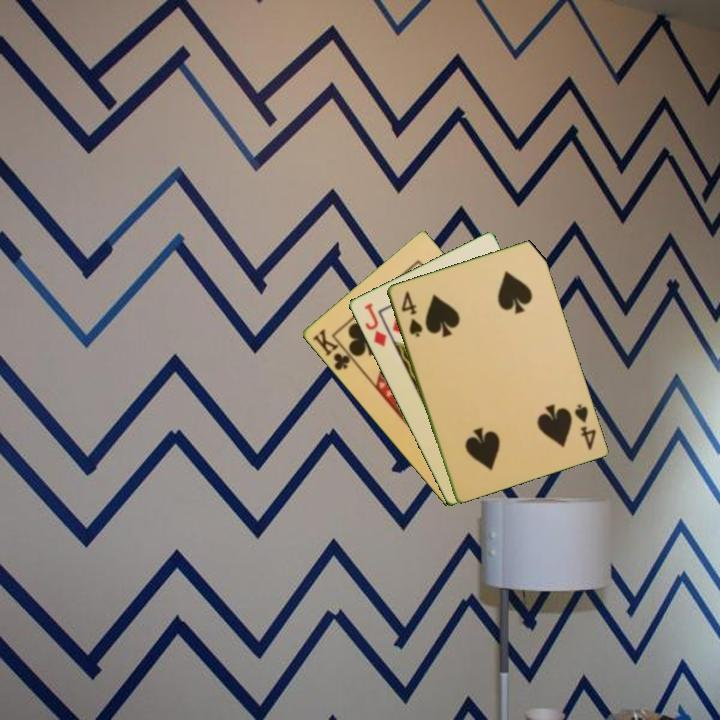4s: (397, 287, 425, 340), (570, 400, 598, 453)
Jd: (360, 299, 389, 350)
Kc: (309, 325, 358, 373)
